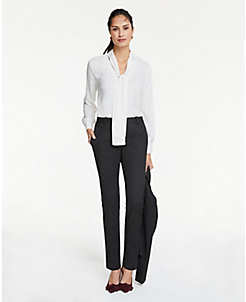feet: (96, 253, 143, 294)
